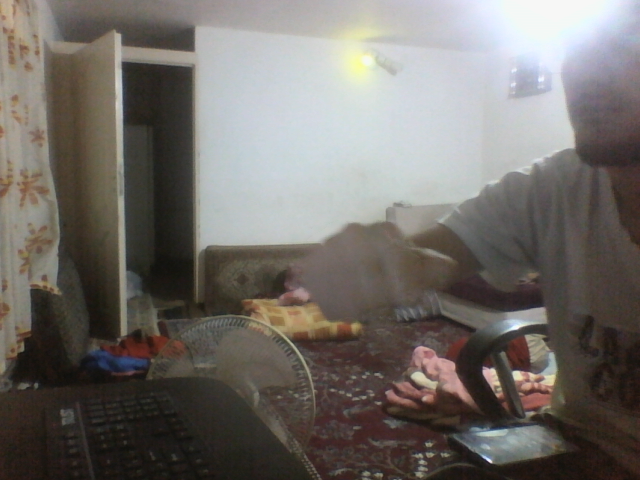attack: (294, 222, 458, 322)
sorat: (559, 3, 639, 162)
